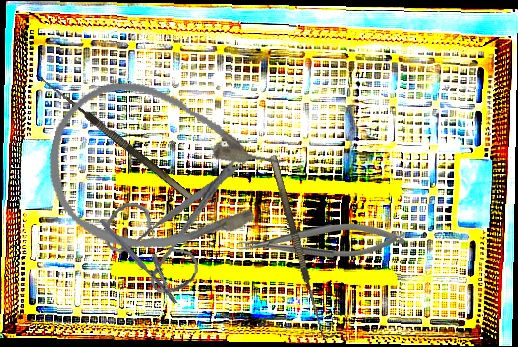Cannula: (33, 66, 294, 279)
Hook Surgical: (28, 71, 196, 211), (269, 152, 336, 341)
Iris Scissors: (98, 135, 249, 302)
Needle Holder: (98, 207, 190, 306), (239, 223, 405, 258)
